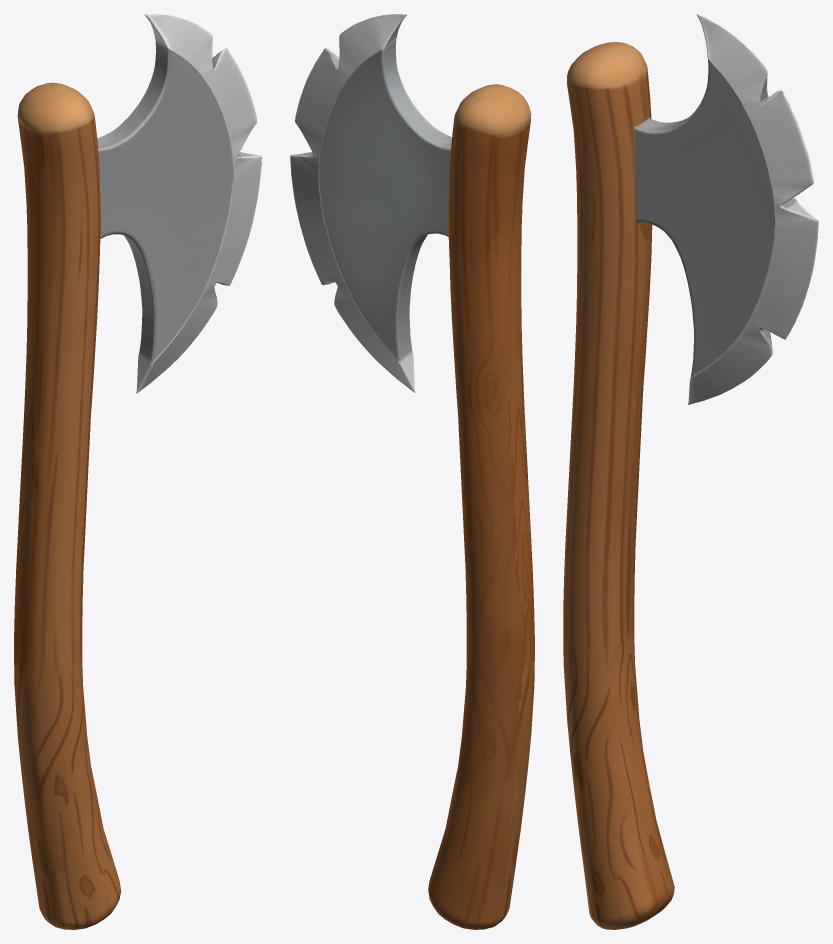
Rendered from WPN_AXE_ENEMY.glb.
The picture shows the model from 3 angles, left to right: view 1: azimuth 30°, elevation 25°; view 2: azimuth 150°, elevation 25°; view 3: azimuth 330°, elevation 25°; orthographic projection. The views are drawn at different scales.
Visible parts, largest first — view 1: Mesh_0.001; view 2: Mesh_0.001; view 3: Mesh_0.001.
Part boxes in pixels (x1,y1,x2,y2): Mesh_0.001: (14,14,261,929); Mesh_0.001: (290,14,534,929); Mesh_0.001: (563,14,818,929).
Bounding box in the file's own units: 0.3394 × 1.2 × 0.1038.
Materials: 1 (1 with a texture image).
